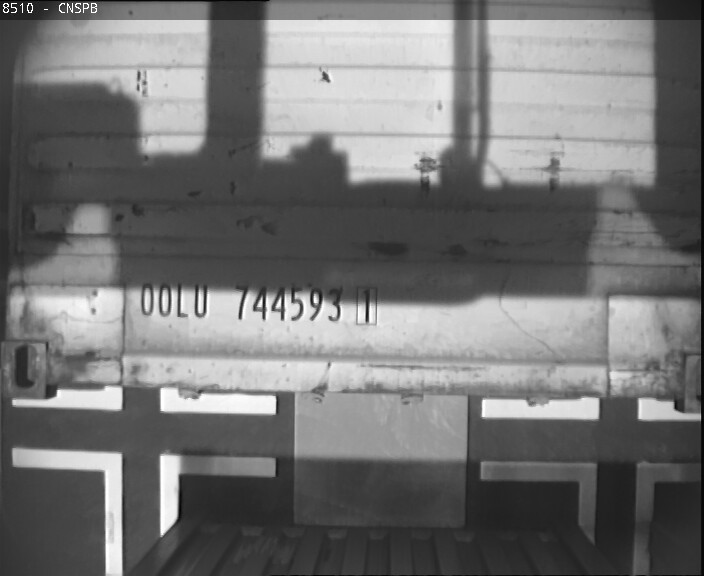groundmarker_1: (11, 448, 275, 576), (481, 459, 704, 575)
